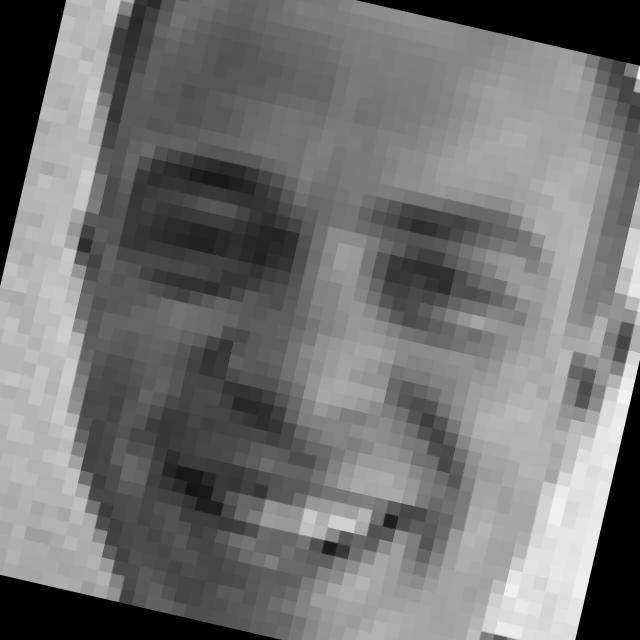happy: (41, 113, 580, 640)
